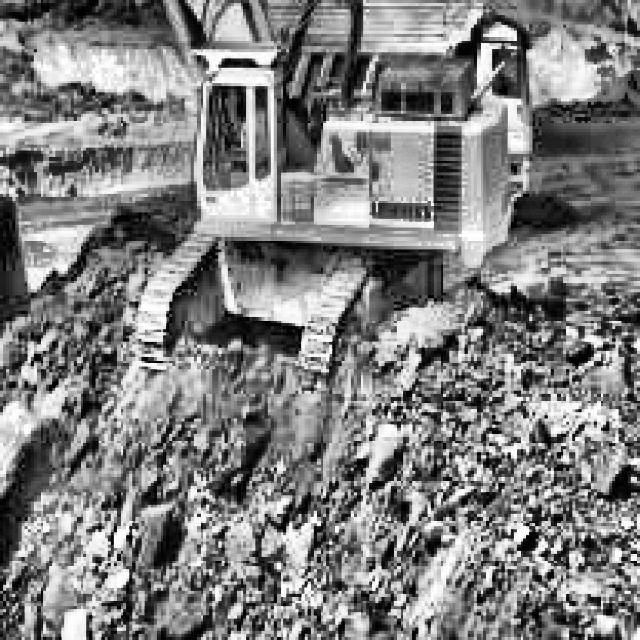dump_truck: (210, 0, 538, 157)
excavator: (0, 0, 514, 446)
